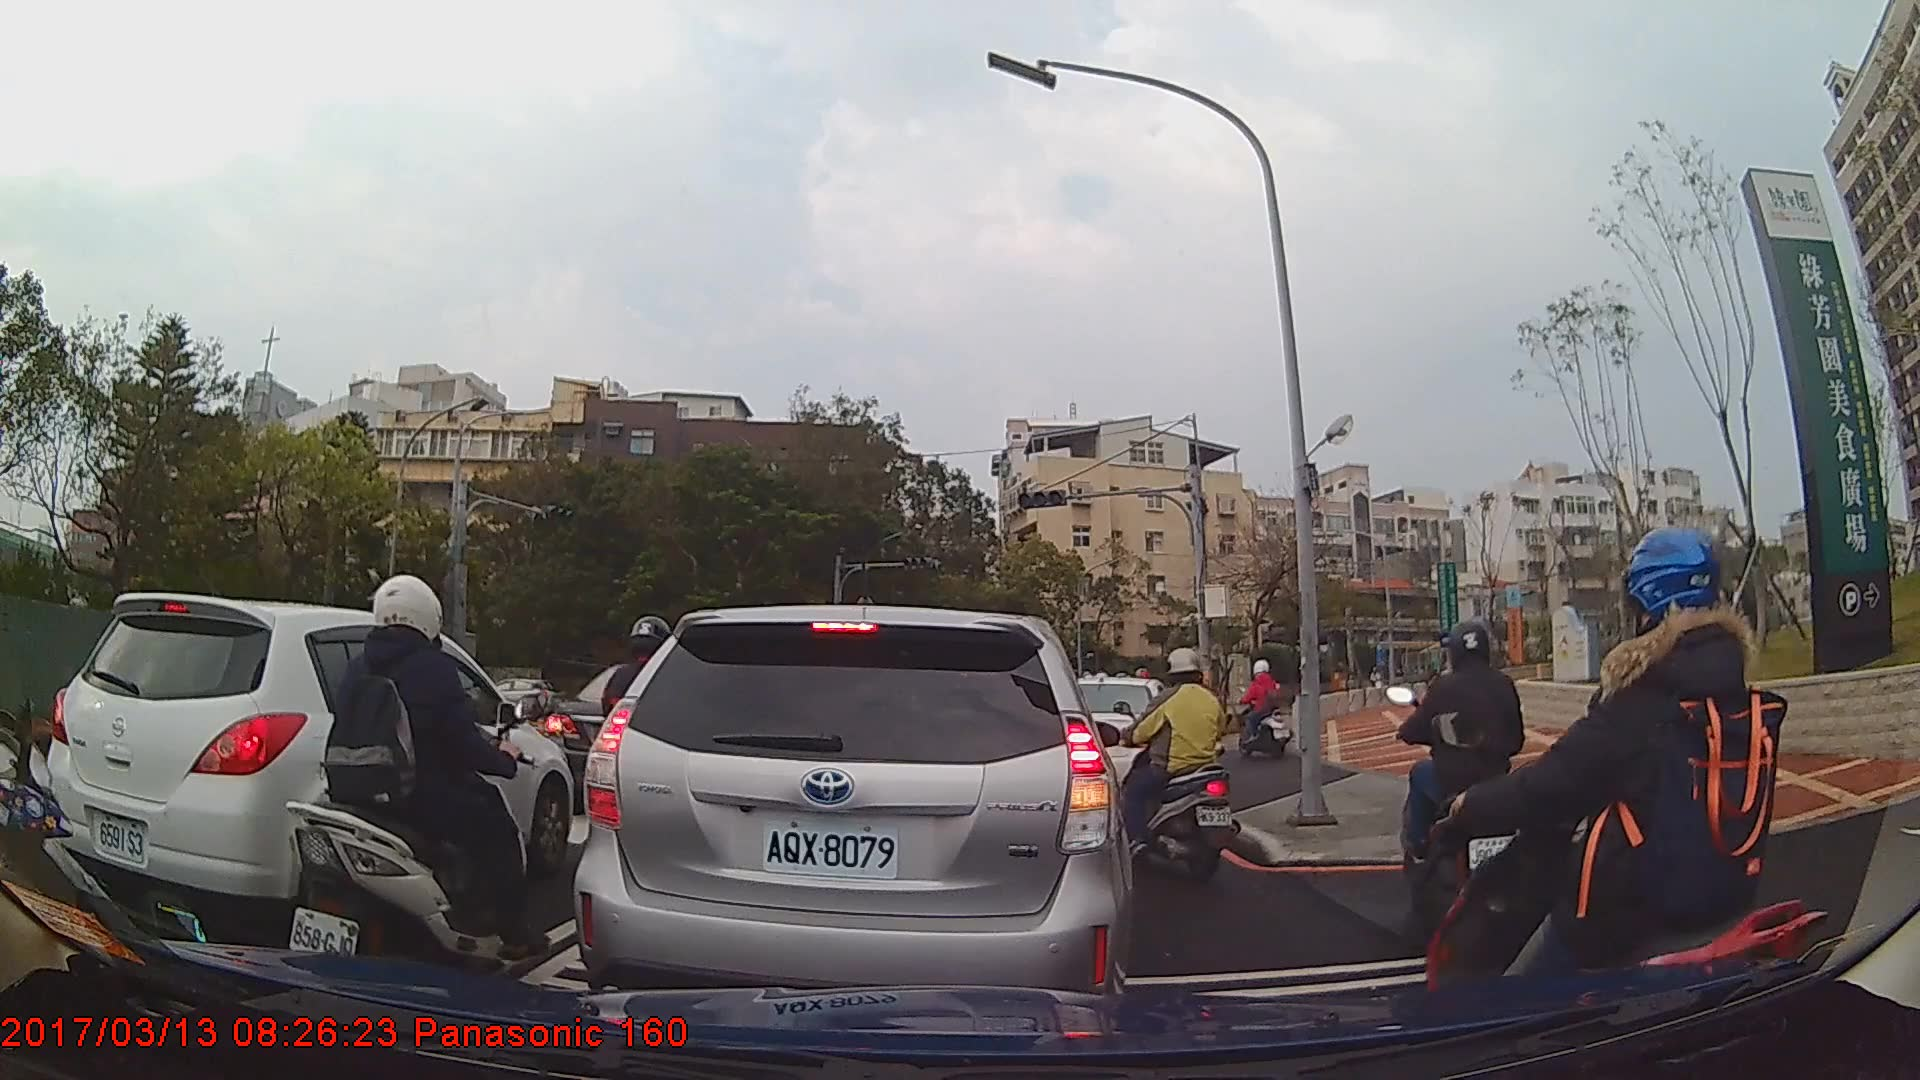pedestrian: (1719, 571, 1760, 651)
rider: (1420, 524, 1843, 1059), (277, 568, 543, 1015), (1380, 617, 1556, 946), (1118, 644, 1237, 881), (1240, 657, 1292, 763)
vehicle: (570, 602, 1136, 1033), (47, 593, 573, 937), (489, 677, 561, 722)
